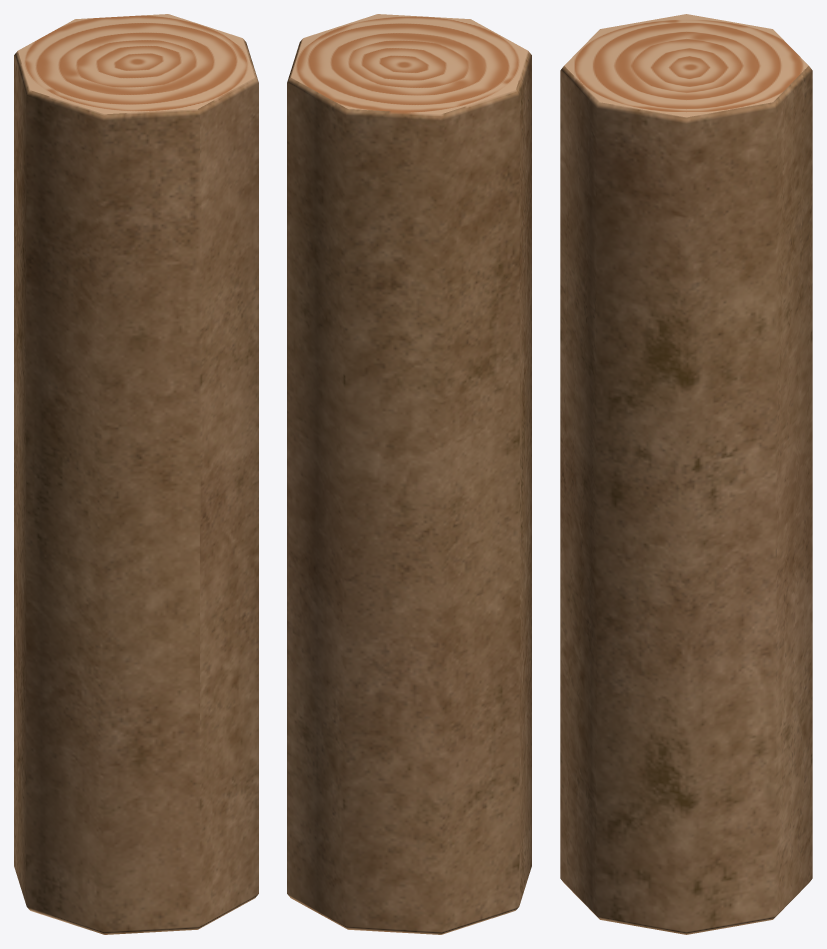
The model's file is SM_Tree_04.fbx.
3 renders of one model, left to right at view 1: azimuth 30°, elevation 25°; view 2: azimuth 150°, elevation 25°; view 3: azimuth 270°, elevation 25°, orthographic.
Visible parts, largest first — view 1: SM_Tree_04; view 2: SM_Tree_04; view 3: SM_Tree_04.
Part boxes in pixels (<box>): SM_Tree_04: <box>14,14,258,934</box>; SM_Tree_04: <box>287,14,531,934</box>; SM_Tree_04: <box>560,14,812,934</box>.
Size of the model in its own units: 3.94 by 14.07 by 3.94.
